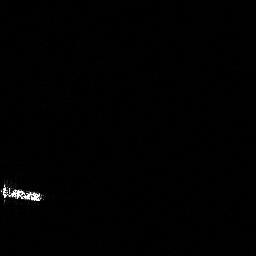ship: (1, 177, 47, 205)
